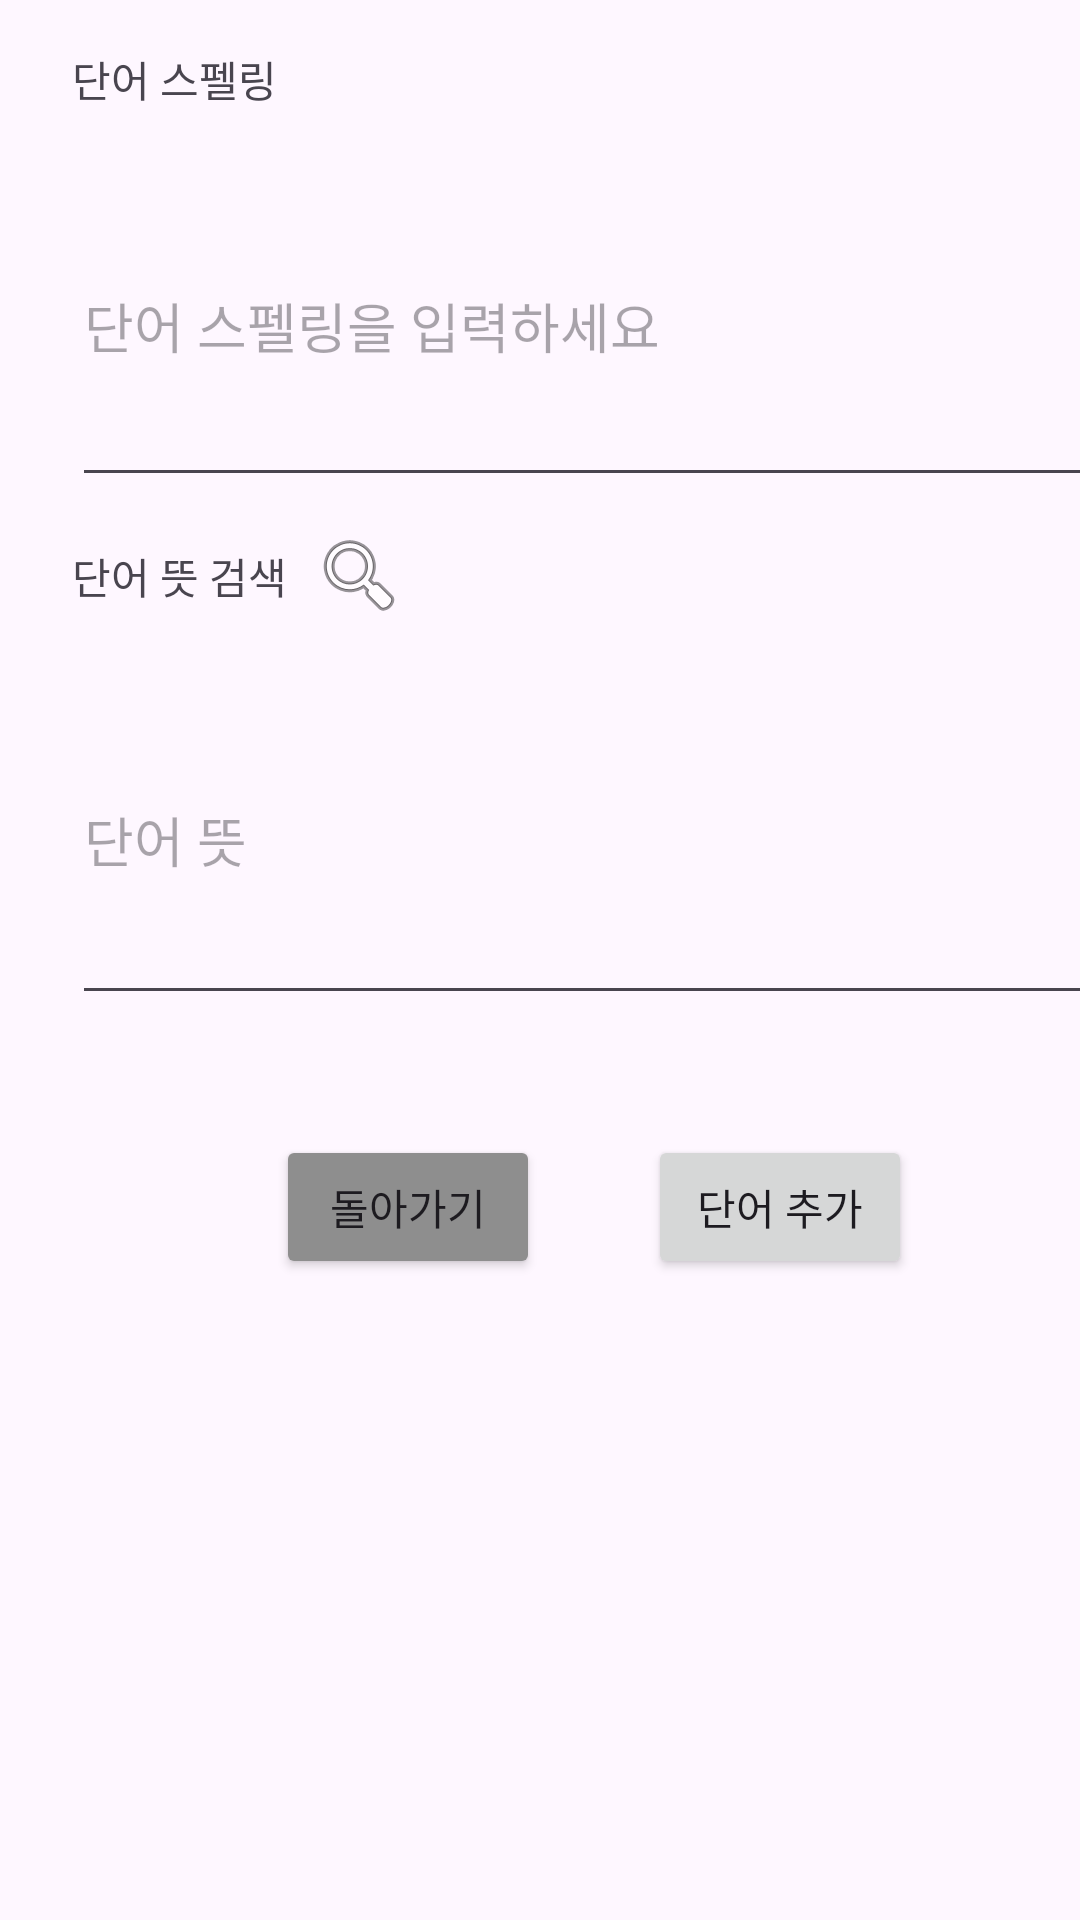

Named icons in this screenshot (1080*1920) and their bounding boxes, (x1, y1, x2, y2):
search: (323, 540, 395, 611)
